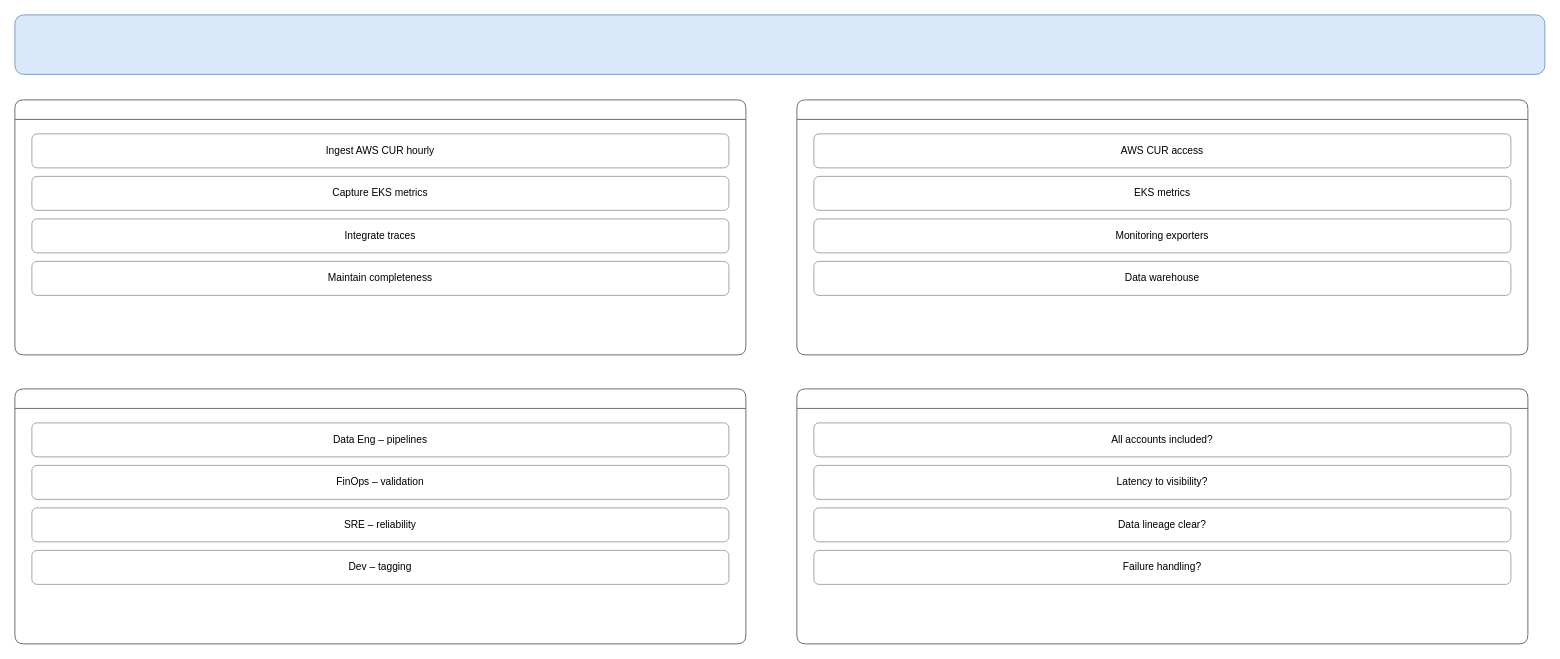
The diagram is 1560 pixels wide and 659 high, and some of its shapes have lost their labels. Each missing label, with the box of its shape:
Data Ingestion – Detailed: (14, 14, 1545, 74)
Dependencies: (796, 99, 1528, 355)
Questions to Answer: (796, 388, 1528, 644)
Teams Involved: (14, 388, 746, 644)
What it needs to do / achieve: (14, 99, 746, 355)
